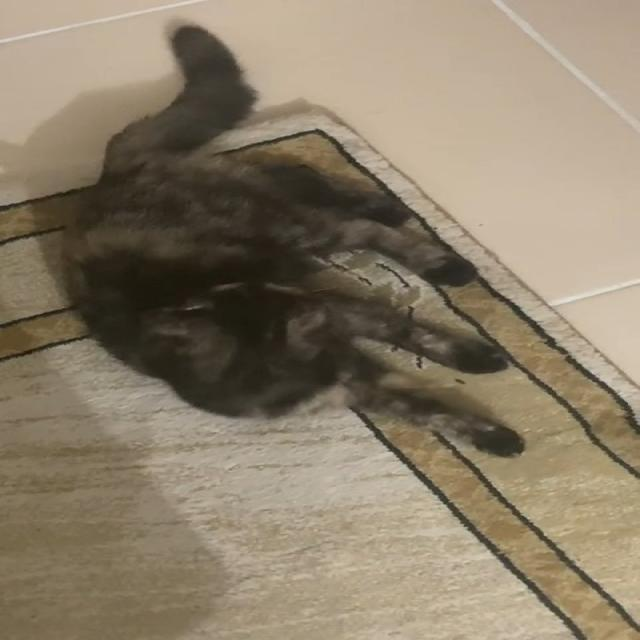authorized: (59, 18, 526, 459)
